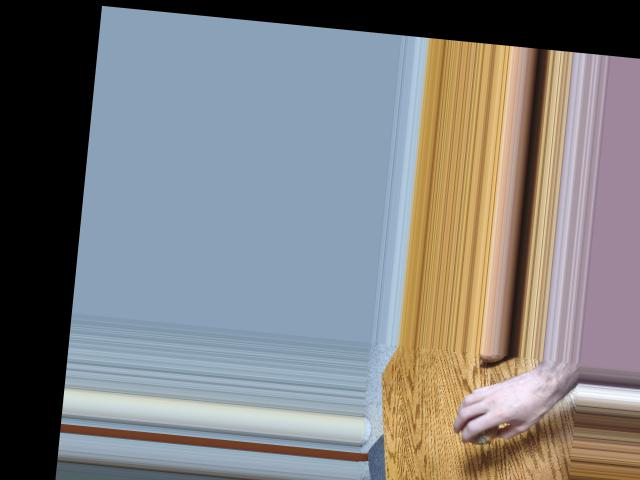onion: (456, 407, 503, 448)
